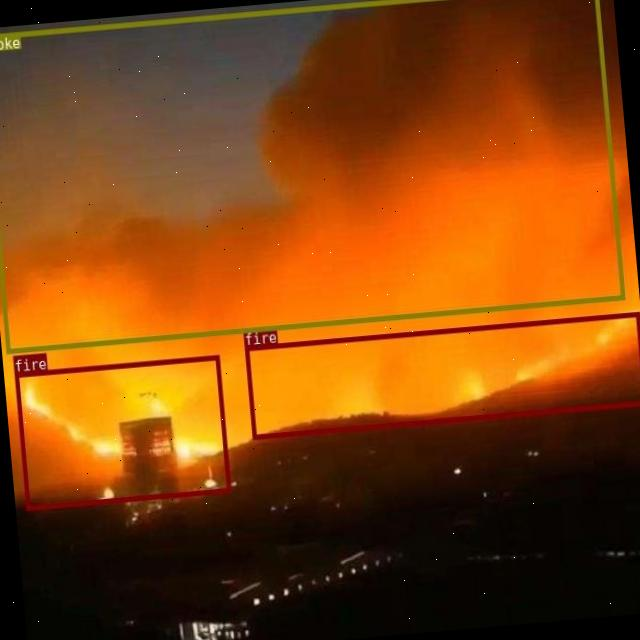fire: (243, 310, 640, 438), (13, 354, 230, 509)
smoke: (0, 0, 624, 352)
